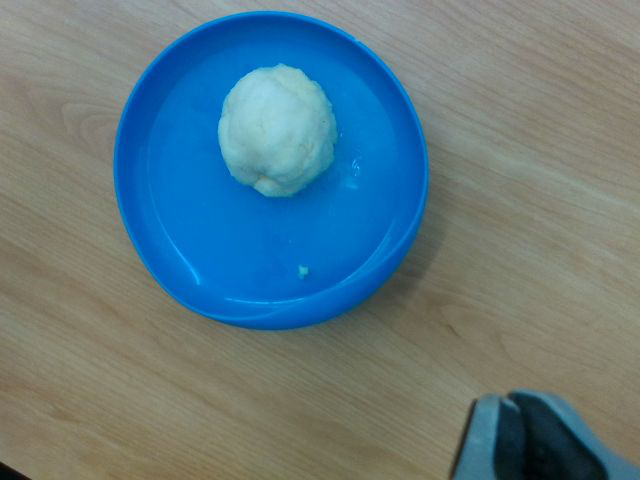mashed_potato: (219, 64, 337, 196)
